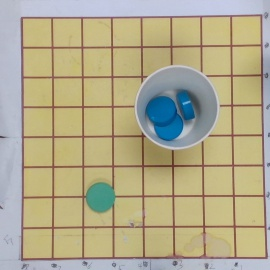cup_blue: (135, 64, 220, 153)
green: (84, 181, 115, 212)
